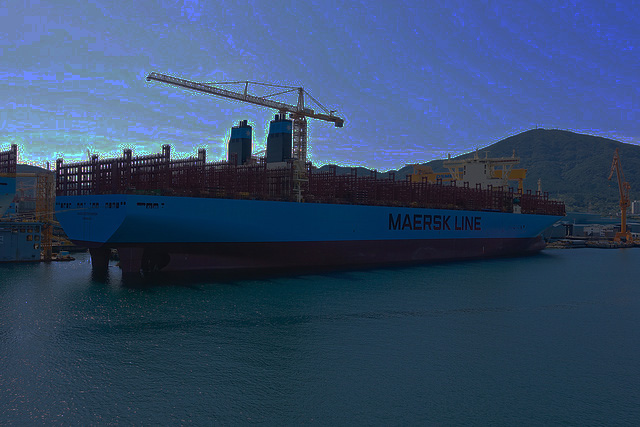container_ship: (52, 110, 562, 272)
